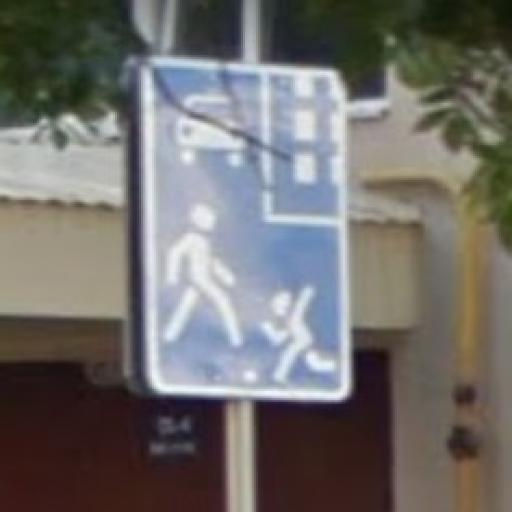traffic_sign: (142, 60, 357, 407)
